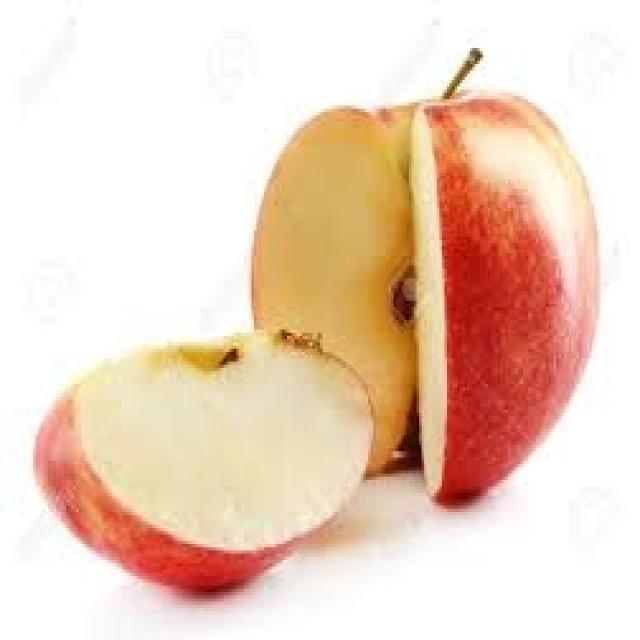Apple: (384, 74, 622, 512), (38, 316, 409, 586), (264, 70, 457, 473)
